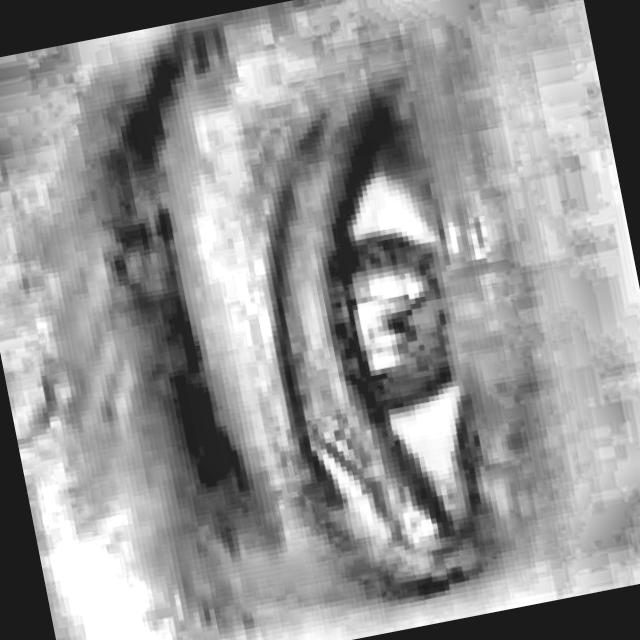open_eyes: (192, 59, 542, 599)
